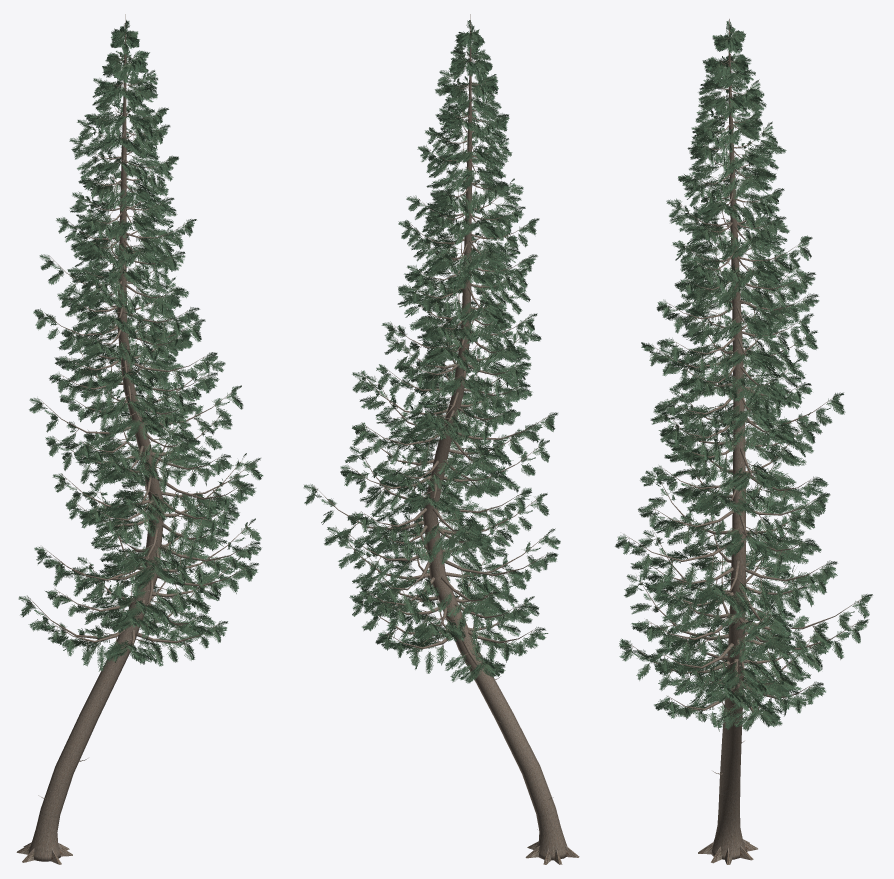
The model's file is SS_Defect_Bent_PostMature_02_LOD0.fbx.
3 renders of one model, left to right at view 1: azimuth 30°, elevation 25°; view 2: azimuth 150°, elevation 25°; view 3: azimuth 270°, elevation 25°, orthographic. The views are drawn at different scales.
Visible parts, largest first — view 1: SS_Defect_Bent_PostMature_02_LOD0_Foliage, SS_Defect_Bent_PostMature_02_LOD0_Branches, SS_Defect_Bent_PostMature_02_LOD0_Trunk; view 2: SS_Defect_Bent_PostMature_02_LOD0_Foliage, SS_Defect_Bent_PostMature_02_LOD0_Branches, SS_Defect_Bent_PostMature_02_LOD0_Trunk; view 3: SS_Defect_Bent_PostMature_02_LOD0_Foliage, SS_Defect_Bent_PostMature_02_LOD0_Branches, SS_Defect_Bent_PostMature_02_LOD0_Trunk.
Part boxes in pixels (left/top/right/bottom): SS_Defect_Bent_PostMature_02_LOD0_Foliage: left=18, top=20, right=263, bottom=671; SS_Defect_Bent_PostMature_02_LOD0_Branches: left=28, top=36, right=254, bottom=798; SS_Defect_Bent_PostMature_02_LOD0_Trunk: left=16, top=14, right=164, bottom=864; SS_Defect_Bent_PostMature_02_LOD0_Foliage: left=303, top=20, right=560, bottom=683; SS_Defect_Bent_PostMature_02_LOD0_Branches: left=313, top=32, right=553, bottom=829; SS_Defect_Bent_PostMature_02_LOD0_Trunk: left=423, top=14, right=579, bottom=864; SS_Defect_Bent_PostMature_02_LOD0_Foliage: left=615, top=20, right=872, bottom=731; SS_Defect_Bent_PostMature_02_LOD0_Branches: left=626, top=32, right=863, bottom=774; SS_Defect_Bent_PostMature_02_LOD0_Trunk: left=698, top=19, right=757, bottom=864.
Bounding box in the file's own units: 1016 × 3100 × 866.
